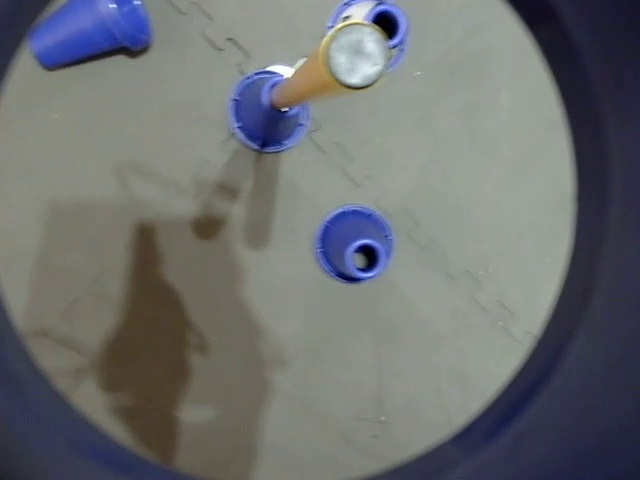tip: (313, 19, 392, 92)
